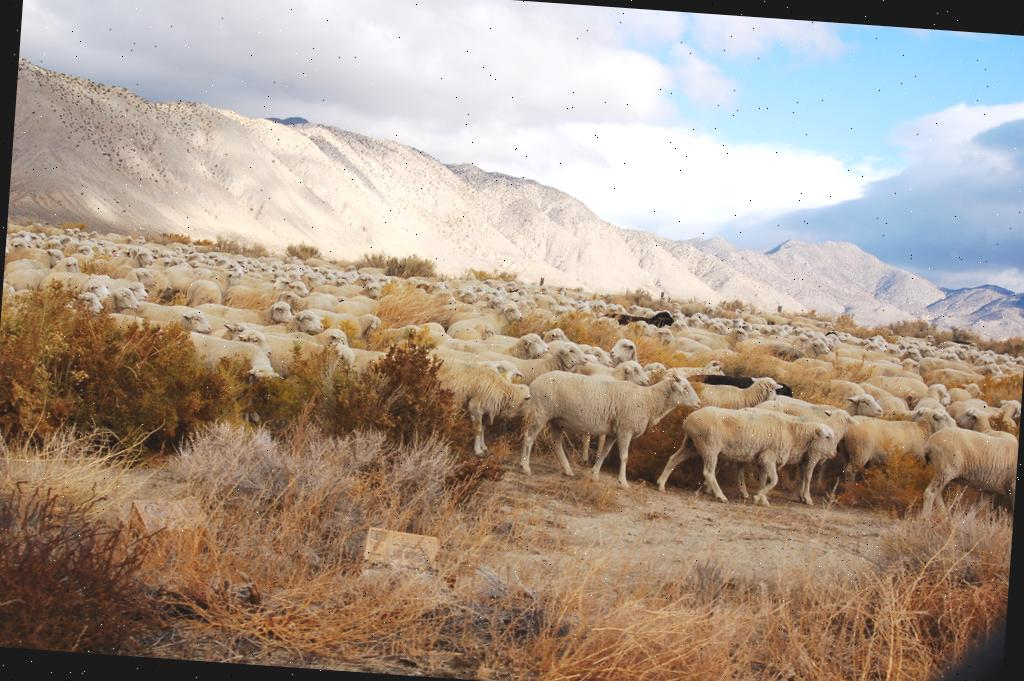Sheep: (518, 361, 704, 491), (680, 380, 848, 509), (916, 418, 1019, 525), (833, 403, 942, 501), (422, 356, 526, 458), (186, 328, 280, 382), (250, 325, 339, 373), (686, 368, 780, 413), (426, 338, 516, 370), (131, 299, 215, 332), (544, 338, 594, 371), (954, 405, 1008, 433), (864, 391, 912, 418), (382, 322, 430, 347), (349, 310, 383, 343)
